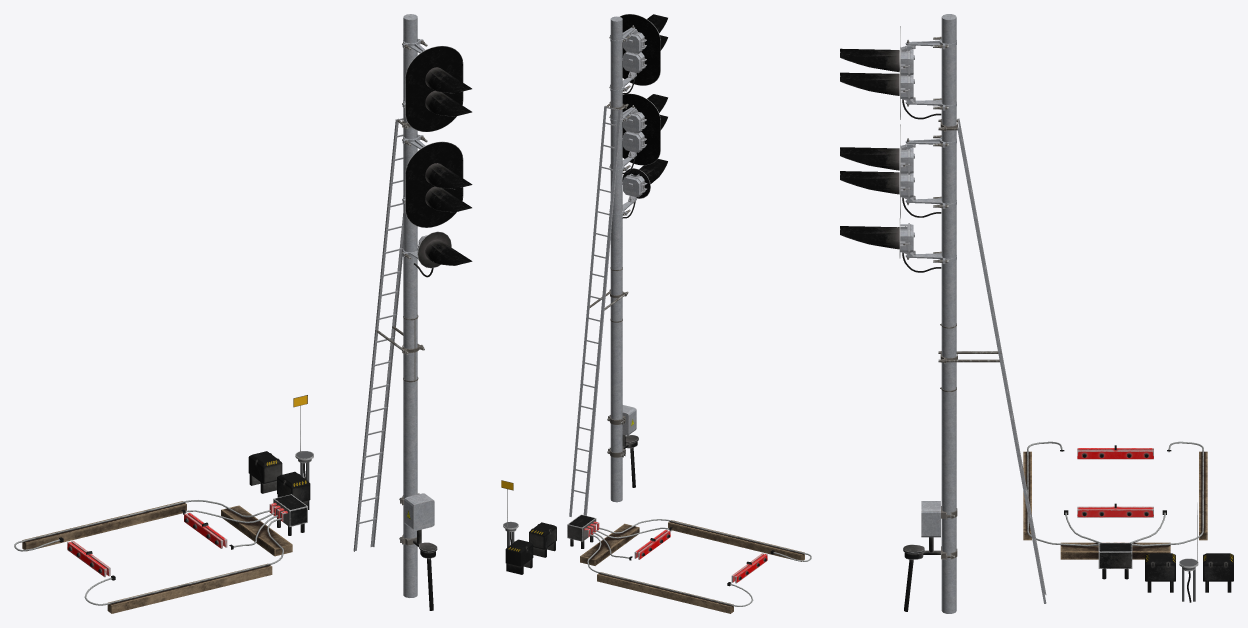
The model's file is RM_sig_P_MM2_YG+RY+W_2+2+1_entr.gltf.
3 views of the same model, side by side, from view 1: azimuth 30°, elevation 25°; view 2: azimuth 150°, elevation 25°; view 3: azimuth 270°, elevation 25° (orthographic). The views are drawn at different scales.
Visible parts, largest first — view 1: Светофор 2+2+1, Изостык; view 2: Светофор 2+2+1, Изостык; view 3: Светофор 2+2+1, Изостык.
Boxes of the visible parts, bbox=[...] form: Светофор 2+2+1: bbox=[353, 14, 472, 610]; Изостык: bbox=[14, 395, 313, 613]; Светофор 2+2+1: bbox=[569, 14, 668, 516]; Изостык: bbox=[501, 480, 811, 613]; Светофор 2+2+1: bbox=[840, 14, 1046, 613]; Изостык: bbox=[1023, 441, 1233, 602].
Bounding box in the file's own units: 4.2 × 7.57 × 4.55.
Materials: 3 (2 with a texture image).
